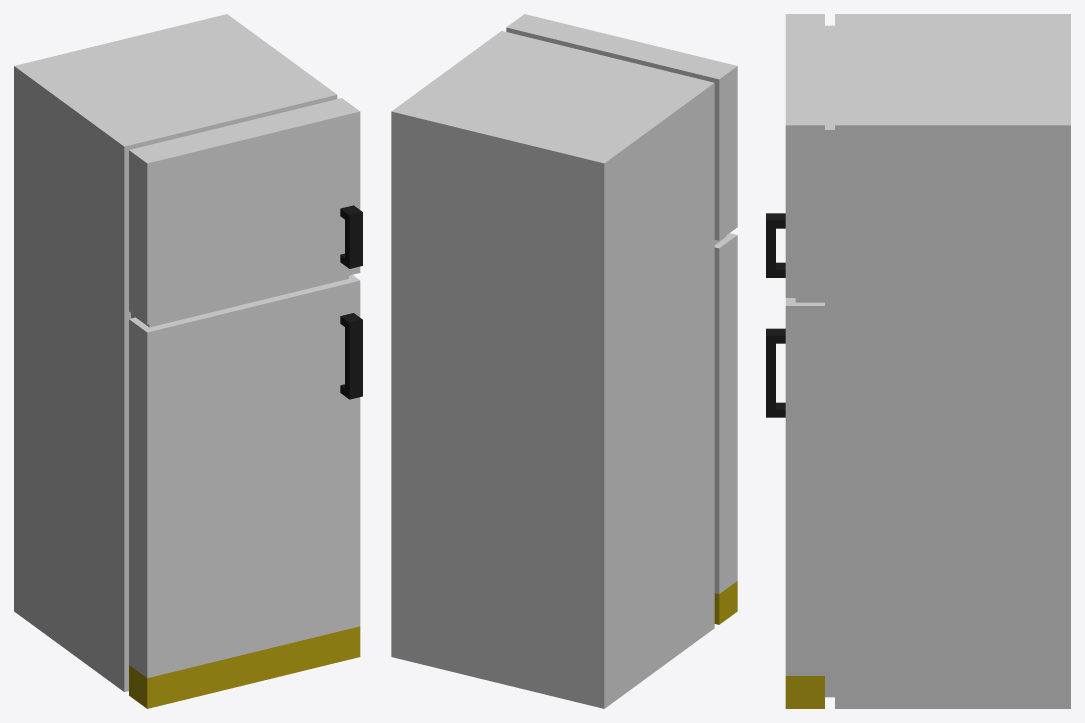
File: Fridge.fbx
3 views of the same model, side by side, from view 1: azimuth 30°, elevation 25°; view 2: azimuth 150°, elevation 25°; view 3: azimuth 270°, elevation 25° (orthographic). The views are drawn at different scales.
Visible parts, largest first — view 1: Fridge; view 2: Fridge; view 3: Fridge.
Part boxes in pixels (x1,y1,x2,y2): Fridge: (14,14,362,708); Fridge: (391,14,737,708); Fridge: (766,14,1070,708).
Size of the model in its own units: 0.6924 by 1.69 by 0.8015.
